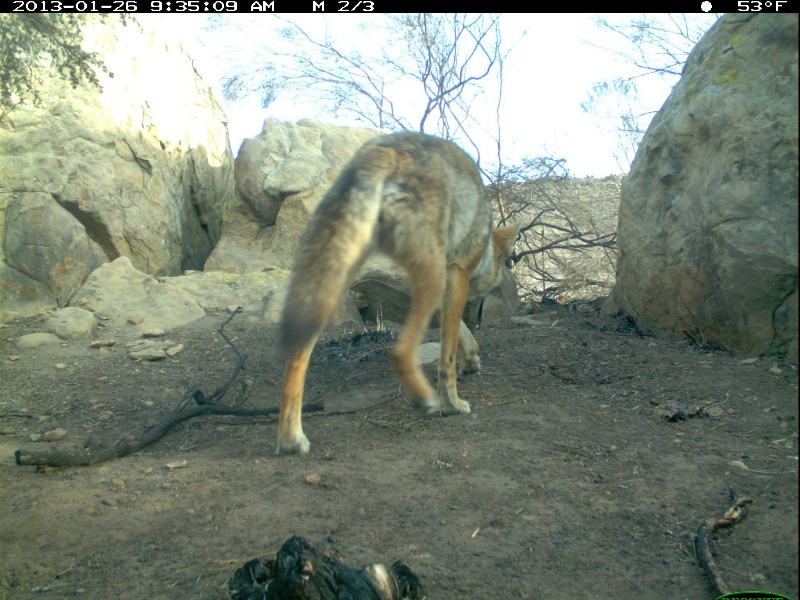coyote: (263, 130, 525, 466)
